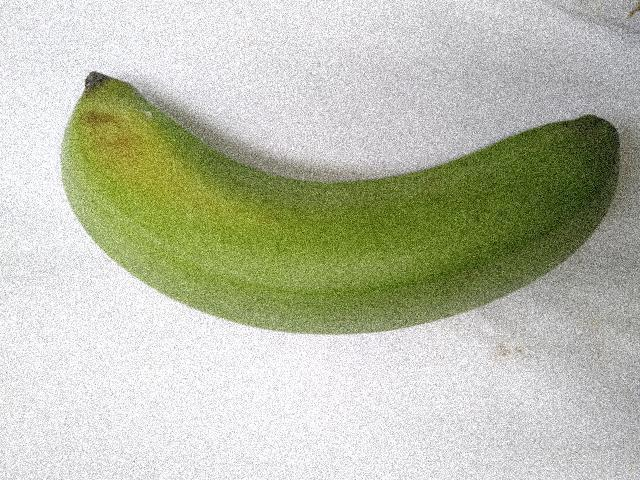freshunripe: (39, 55, 635, 369)
